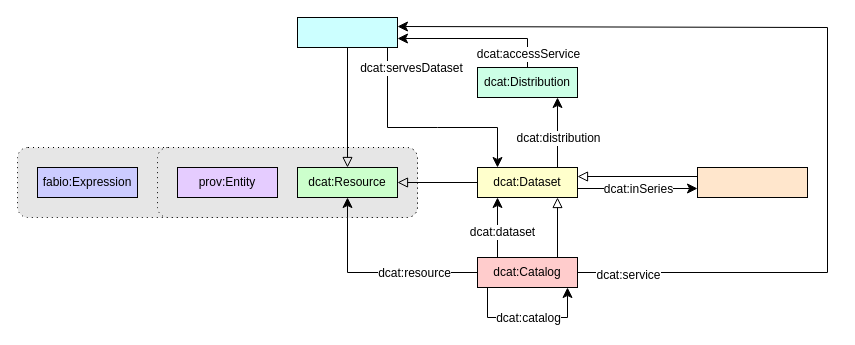
Some shapes in this 855 by 345 pixel diagram are drawn without their labels. Here are the shapes that lost their labels. From the top down, the centre of each, then its label:
At pixel 347 32: "dcat:DataService".
At pixel 752 182: "dcat:DatasetSeries".
